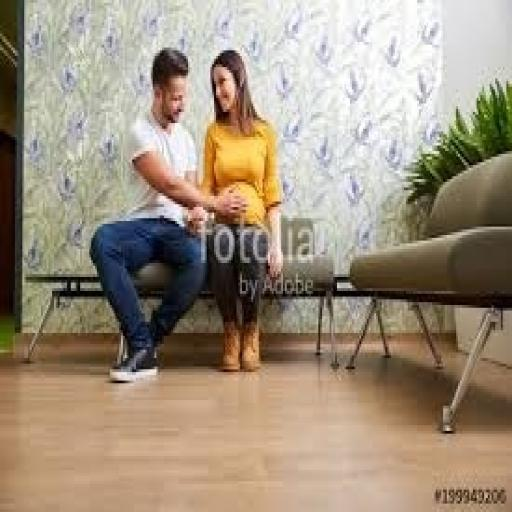sitting: (88, 45, 210, 383), (195, 47, 285, 375)
